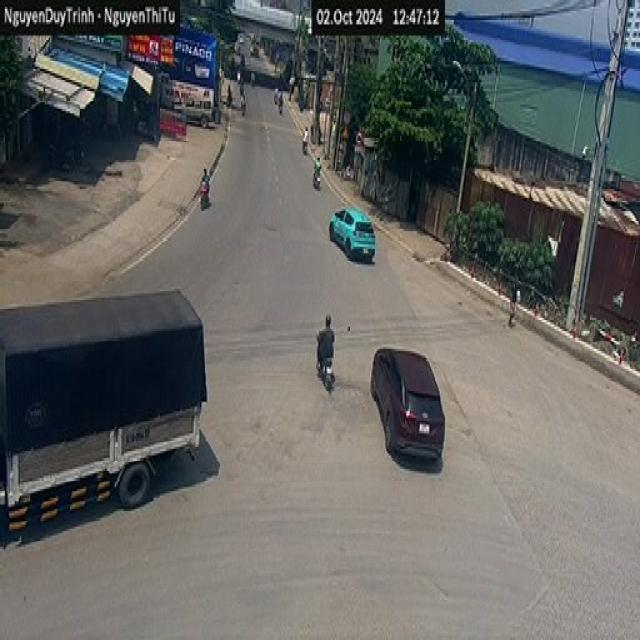car: (370, 347, 445, 462), (329, 207, 375, 262)
motorcycle: (309, 345, 336, 391), (274, 94, 292, 127), (198, 182, 218, 211), (298, 138, 312, 158), (239, 100, 251, 122), (312, 167, 321, 191)
person: (316, 314, 334, 382), (504, 271, 520, 338), (199, 167, 210, 209), (312, 156, 322, 187), (302, 125, 308, 154), (280, 86, 286, 112), (241, 82, 248, 103)
truck: (0, 284, 208, 529)
